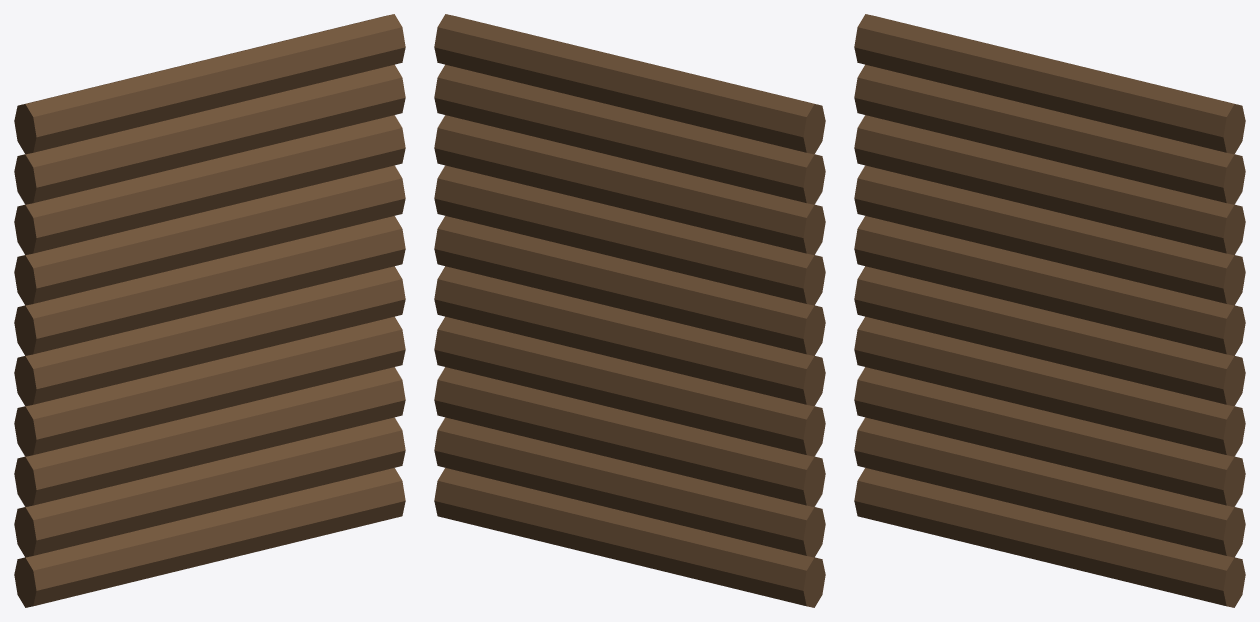
Rendered from wall_log_lod0.glb.
The picture shows the model from 3 angles, left to right: view 1: azimuth 30°, elevation 25°; view 2: azimuth 150°, elevation 25°; view 3: azimuth 330°, elevation 25°; orthographic projection.
Visible parts, largest first — view 1: wall_log; view 2: wall_log; view 3: wall_log.
Part boxes in pixels (x1,y1,x2,y2): wall_log: [14, 14, 405, 607]; wall_log: [434, 14, 825, 607]; wall_log: [854, 14, 1245, 607].
Bounding box in the file's own units: 2.3 × 3 × 0.24.
